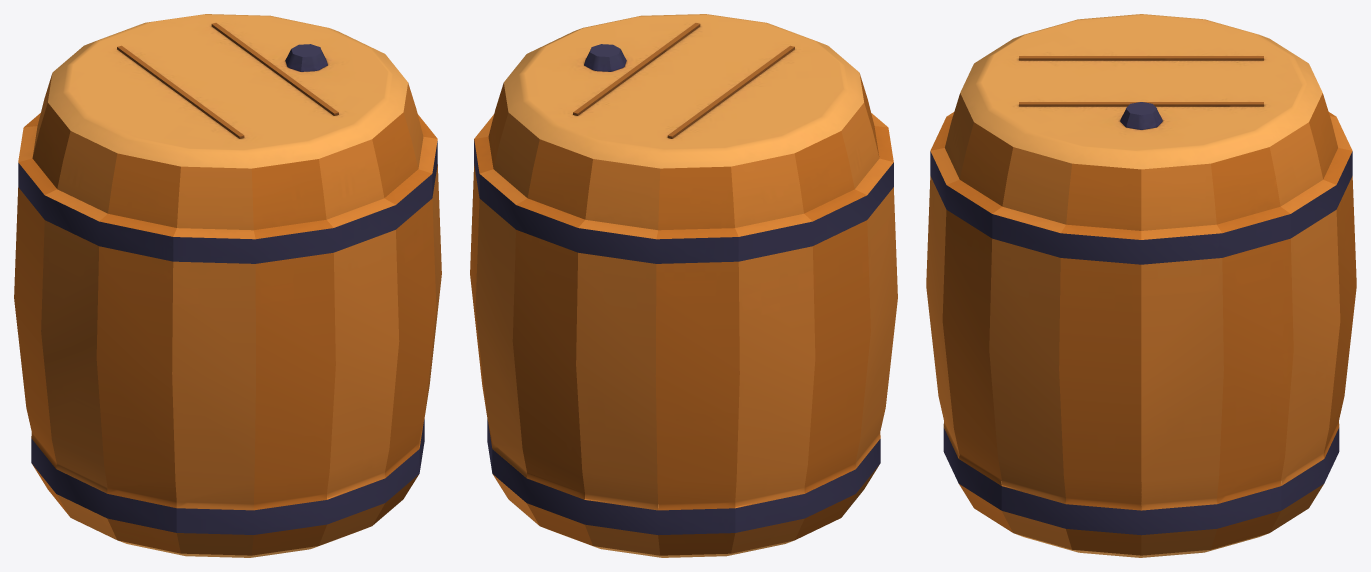
The model's file is fici_t.glb.
3 renders of one model, left to right at view 1: azimuth 30°, elevation 25°; view 2: azimuth 150°, elevation 25°; view 3: azimuth 270°, elevation 25°, orthographic.
Visible parts, largest first — view 1: fici_t; view 2: fici_t; view 3: fici_t.
Boxes of the visible parts, <box> form: fici_t: <box>14,14,441,557</box>; fici_t: <box>470,14,897,557</box>; fici_t: <box>926,14,1356,557</box>.
Size of the model in its own units: 1.47 by 1.58 by 1.47.
Materials: 1 (1 with a texture image).
